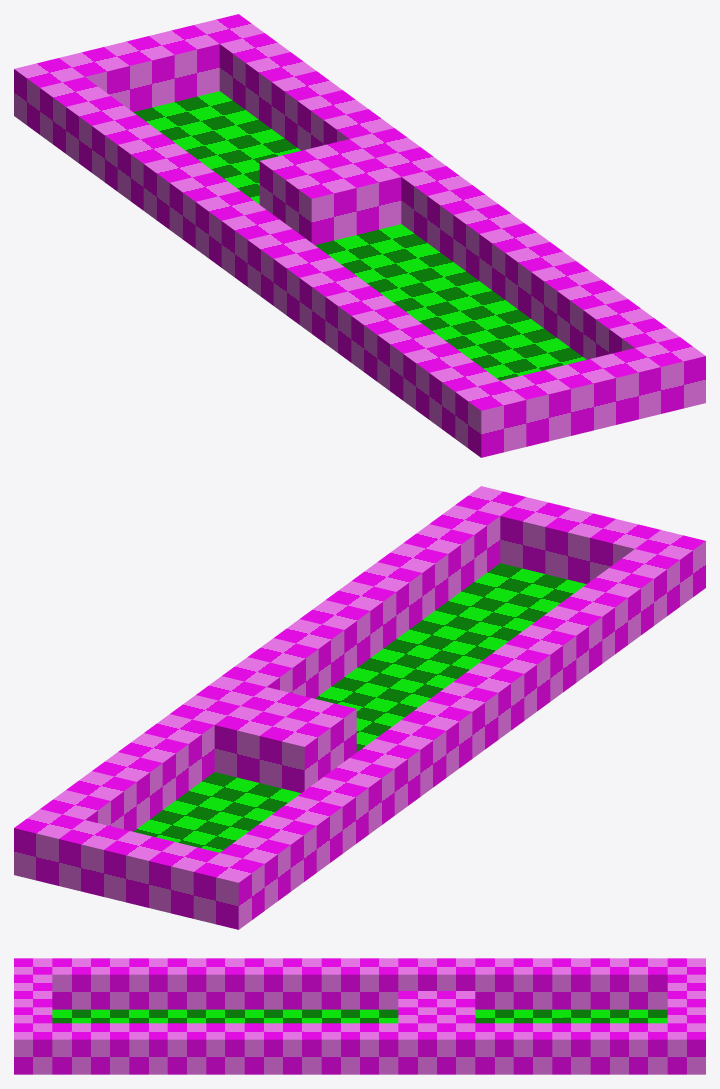
File: Level 1.obj
The picture shows the model from 3 angles, top to bottom: view 1: azimuth 30°, elevation 25°; view 2: azimuth 150°, elevation 25°; view 3: azimuth 270°, elevation 25°; orthographic projection. The views are drawn at different scales.
Visible parts, largest first — view 1: Plane, Cube.001, Cube.020, Cube.031, Cube.019, Cube.006, Cube.003, Cube.004, Cube.002, Cube.030, Cube.017, Cube.038 (+35 smaller); view 2: Plane, Cube.045, Cube.021, Cube.022, Cube.004, Cube.049, Cube.030, Cube.031, Cube.005, Cube.003, Cube.039, Cube.011 (+35 smaller); view 3: Plane, Cube.012, Cube.025, Cube.034, Cube.043, Cube, Cube.006, Cube.007, Cube.008, Cube.009, Cube.010, Cube.011 (+35 smaller).
Boxes of the visible parts, x1,y1,x2,y2 form: Plane: [133, 91, 586, 380]; Cube.001: [455, 381, 526, 457]; Cube.020: [285, 169, 356, 244]; Cube.031: [149, 25, 219, 101]; Cube.019: [331, 158, 401, 234]; Cube.006: [635, 337, 705, 413]; Cube.003: [545, 359, 615, 435]; Cube.004: [590, 348, 660, 424]; Cube.002: [501, 370, 570, 446]; Cube.030: [104, 36, 174, 111]; Cube.017: [401, 166, 471, 242]; Cube.038: [247, 229, 317, 305]; Plane: [133, 563, 586, 852]; Cube.045: [193, 853, 264, 929]; Cube.021: [259, 717, 330, 792]; Cube.022: [214, 706, 284, 782]; Cube.004: [500, 497, 570, 573]; Cube.049: [14, 809, 84, 885]; Cube.030: [104, 831, 174, 907]; Cube.031: [59, 820, 129, 896]; Cube.005: [149, 842, 218, 918]; Cube.003: [545, 508, 615, 583]; Cube.039: [402, 701, 472, 777]; Cube.011: [378, 543, 448, 619]; Plane: [52, 1009, 667, 1023]; Cube.012: [167, 1023, 206, 1074]; Cube.025: [513, 1023, 552, 1074]; Cube.034: [167, 958, 206, 1009]; Cube.043: [513, 958, 552, 1009]; Cube: [52, 958, 90, 1009]; Cube.006: [14, 1023, 52, 1074]; Cube.007: [52, 1023, 90, 1074]; Cube.008: [91, 958, 129, 1009]; Cube.009: [129, 958, 167, 1009]; Cube.010: [91, 1023, 129, 1074]; Cube.011: [129, 1023, 167, 1074].
Bounding box in the file's own units: 10 × 2 × 36.
